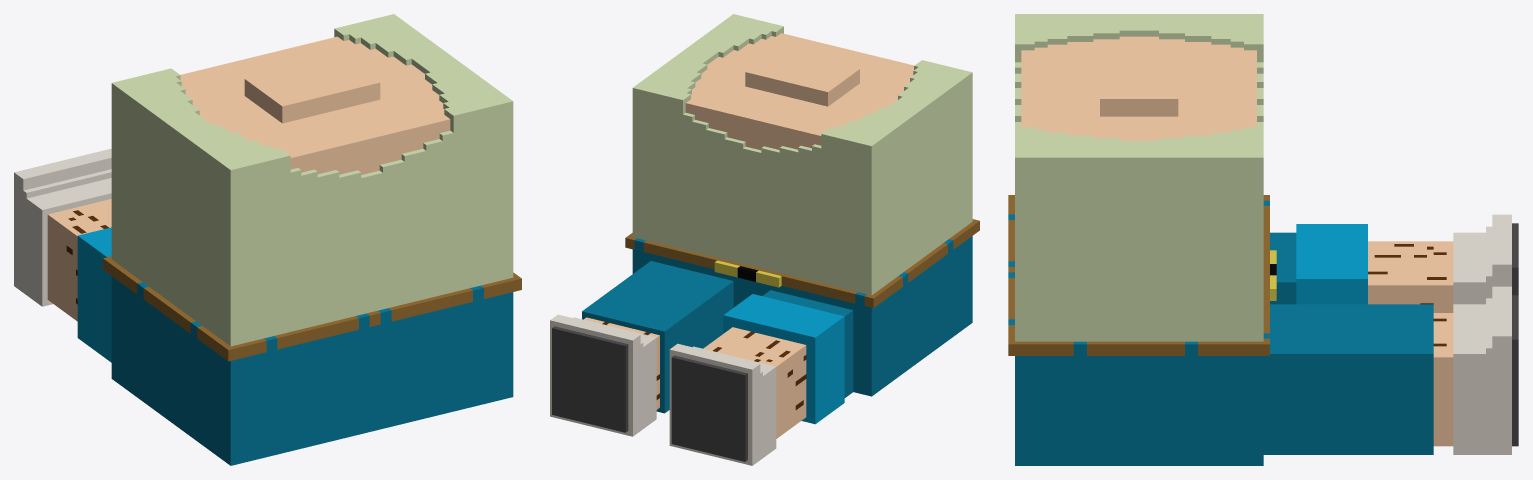
File: Body.obj
The picture shows the model from 3 angles, left to right: view 1: azimuth 30°, elevation 25°; view 2: azimuth 150°, elevation 25°; view 3: azimuth 270°, elevation 25°; orthographic projection. The views are drawn at different scales.
Visible parts, largest first — view 1: Body; view 2: Body; view 3: Body.
Boxes of the visible parts, x1,y1,x2,y2 form: Body: [14, 14, 521, 465]; Body: [550, 14, 979, 465]; Body: [1008, 14, 1518, 465].
Size of the model in its own units: 54 by 54 by 78.
1 material, 1 textured.
